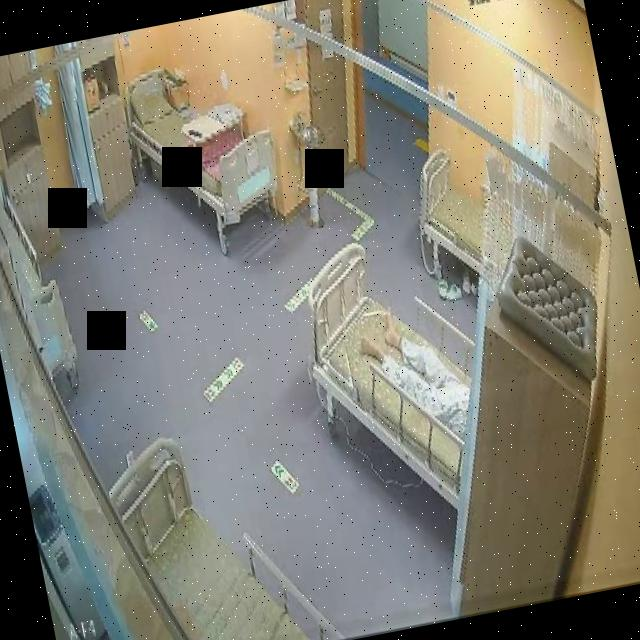bed: (292, 228, 494, 525), (99, 408, 344, 640), (120, 53, 286, 239), (408, 146, 496, 284)
lie: (352, 289, 480, 457)
patient: (352, 288, 479, 458)
